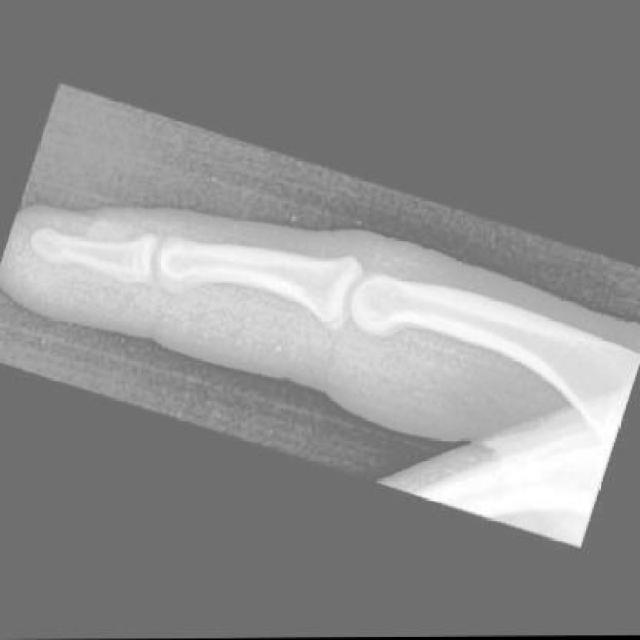Fracture: (320, 309, 348, 339)
